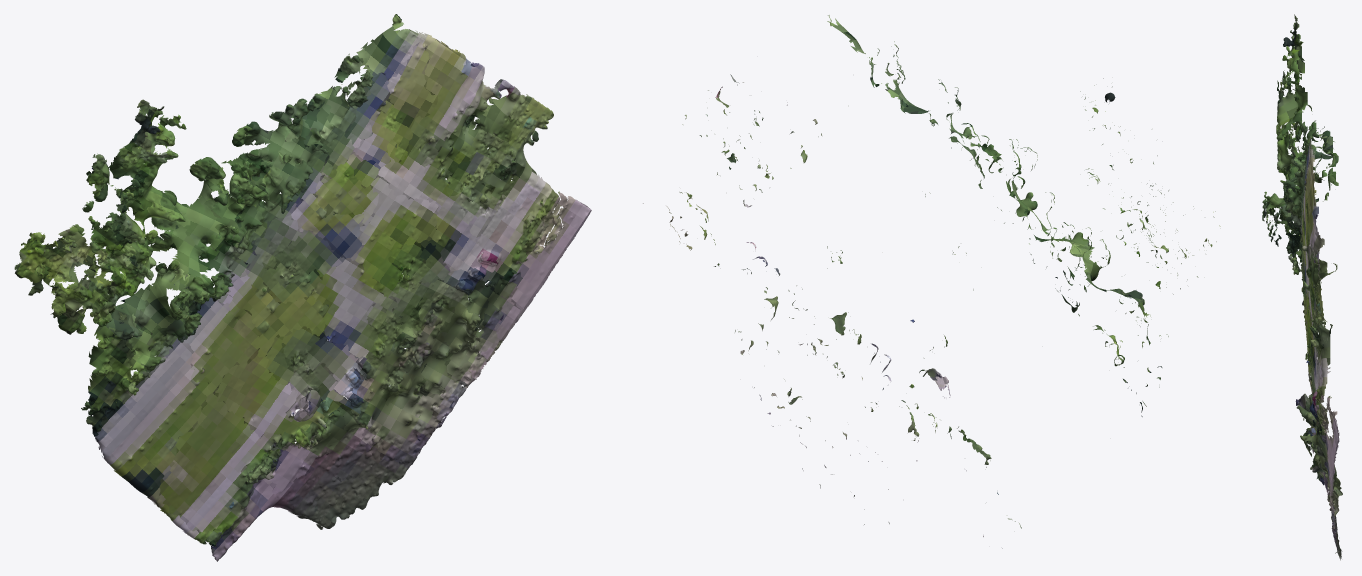
3 renders of one model, left to right at view 1: azimuth 30°, elevation 25°; view 2: azimuth 150°, elevation 25°; view 3: azimuth 270°, elevation 25°, orthographic. The views are drawn at different scales.
Parts seen in each view (by area): view 1: Node; view 2: Node; view 3: Node.
Boxes of the visible parts, left/top/right/bottom form: Node: left=14, top=14, right=591, bottom=561; Node: left=643, top=15, right=1220, bottom=548; Node: left=1262, top=14, right=1342, bottom=560.
Bounding box in the file's own units: 130 × 106 × 17.93.
Materials: 10 (10 with a texture image).
